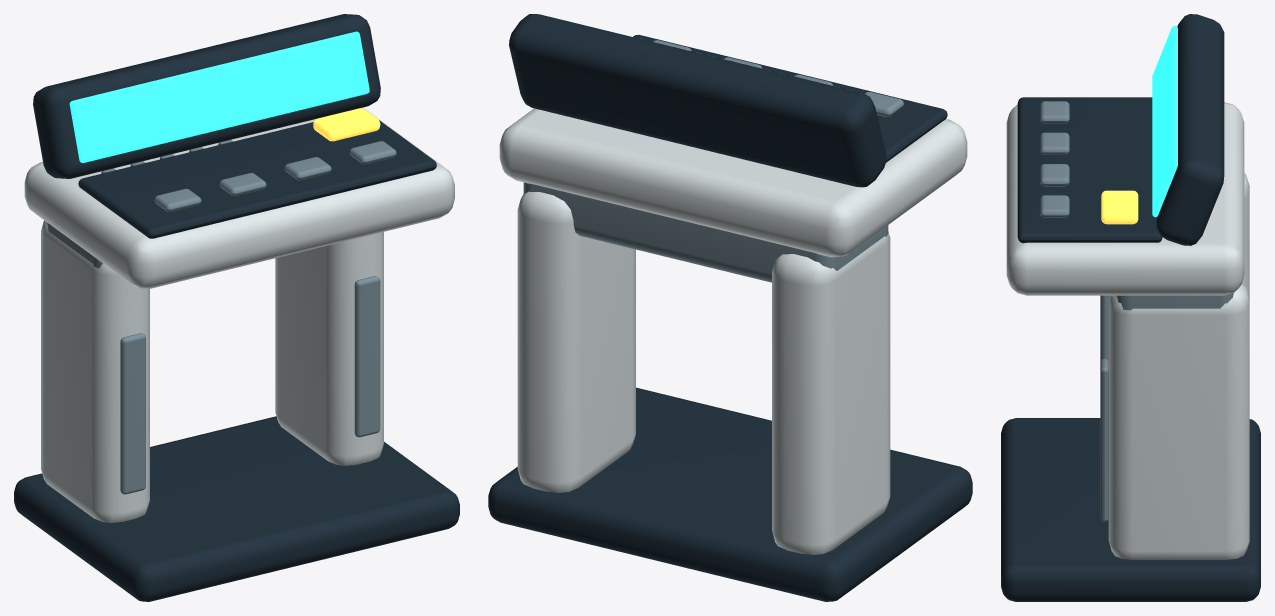
The model's file is Console.fbx.
3 views of the same model, side by side, from view 1: azimuth 30°, elevation 25°; view 2: azimuth 150°, elevation 25°; view 3: azimuth 270°, elevation 25° (orthographic). The views are drawn at different scales.
Visible parts, largest first — view 1: Foot, Open pedestal leg, Control deck, Display glass, Control deck inset, Open pedestal leg.001, Display housing, Leg inset.001, Leg inset, Arm switch, Soft key.002, Soft key.003 (+2 smaller); view 2: Foot, Display housing, Open pedestal leg, Control deck, Open pedestal leg.001, Upper cross brace, Control deck inset; view 3: Open pedestal leg.001, Foot, Control deck, Control deck inset, Display housing, Display glass, Upper cross brace, Leg inset.001, Arm switch, Open pedestal leg, Soft key.003, Soft key (+3 smaller).
Part boxes in pixels (bbox=[...]): Foot: bbox=[14, 416, 459, 601]; Open pedestal leg: bbox=[41, 220, 149, 522]; Control deck: bbox=[24, 107, 454, 288]; Display glass: bbox=[69, 31, 369, 162]; Control deck inset: bbox=[78, 120, 436, 238]; Open pedestal leg.001: bbox=[275, 232, 383, 465]; Display housing: bbox=[33, 14, 380, 178]; Leg inset.001: bbox=[354, 276, 380, 437]; Leg inset: bbox=[120, 333, 145, 494]; Arm switch: bbox=[313, 108, 380, 141]; Soft key.002: bbox=[284, 157, 331, 180]; Soft key.003: bbox=[349, 141, 396, 164]; Foot: bbox=[488, 387, 972, 601]; Display housing: bbox=[509, 14, 886, 187]; Open pedestal leg: bbox=[772, 231, 890, 554]; Control deck: bbox=[499, 108, 967, 257]; Open pedestal leg.001: bbox=[517, 191, 635, 492]; Upper cross brace: bbox=[523, 182, 888, 282]; Control deck inset: bbox=[633, 34, 947, 162]; Open pedestal leg.001: bbox=[1108, 283, 1249, 559]; Foot: bbox=[1001, 418, 1260, 601]; Control deck: bbox=[1006, 102, 1244, 295]; Control deck inset: bbox=[1017, 97, 1162, 243]; Display housing: bbox=[1156, 14, 1224, 245]; Display glass: bbox=[1152, 26, 1177, 217]; Upper cross brace: bbox=[1116, 293, 1233, 310]; Leg inset.001: bbox=[1100, 358, 1108, 521]; Arm switch: bbox=[1101, 190, 1138, 224]; Open pedestal leg: bbox=[1109, 173, 1249, 297]; Soft key.003: bbox=[1040, 195, 1069, 217]; Soft key: bbox=[1040, 101, 1069, 123].
Size of the model in its own units: 1 by 1.31 by 0.7.
